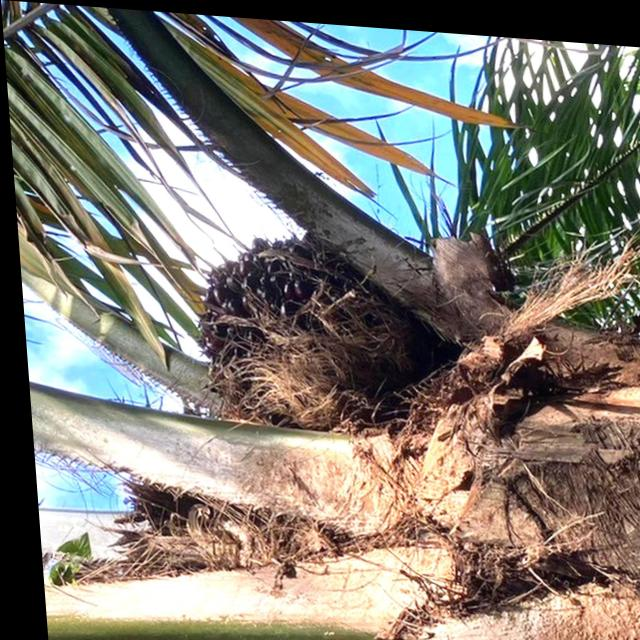ripe: (187, 226, 415, 417)
